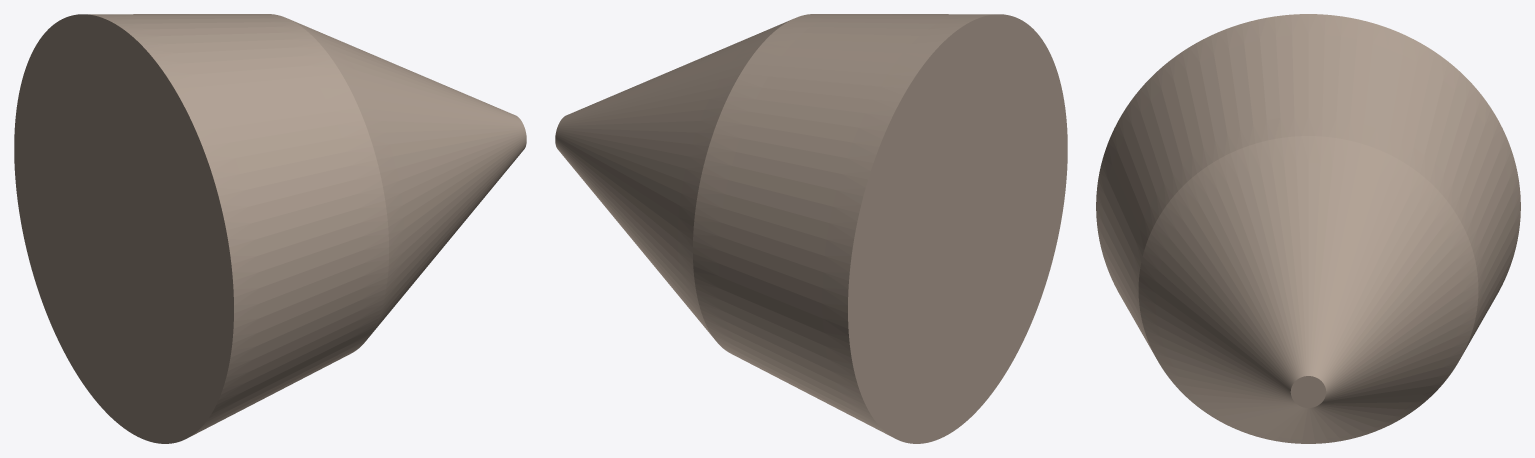
The model's file is p-exhaust-plug.glb.
3 views of the same model, side by side, from view 1: azimuth 30°, elevation 25°; view 2: azimuth 150°, elevation 25°; view 3: azimuth 270°, elevation 25° (orthographic). The views are drawn at different scales.
Visible parts, largest first — view 1: exhaust_plug; view 2: exhaust_plug; view 3: exhaust_plug.
Boxes of the visible parts, box(x1,y1,x2,y2) form: exhaust_plug: box(14, 14, 526, 443); exhaust_plug: box(555, 14, 1067, 443); exhaust_plug: box(1096, 14, 1520, 443).
Size of the model in its own units: 0.62 by 0.6 by 0.5999.
